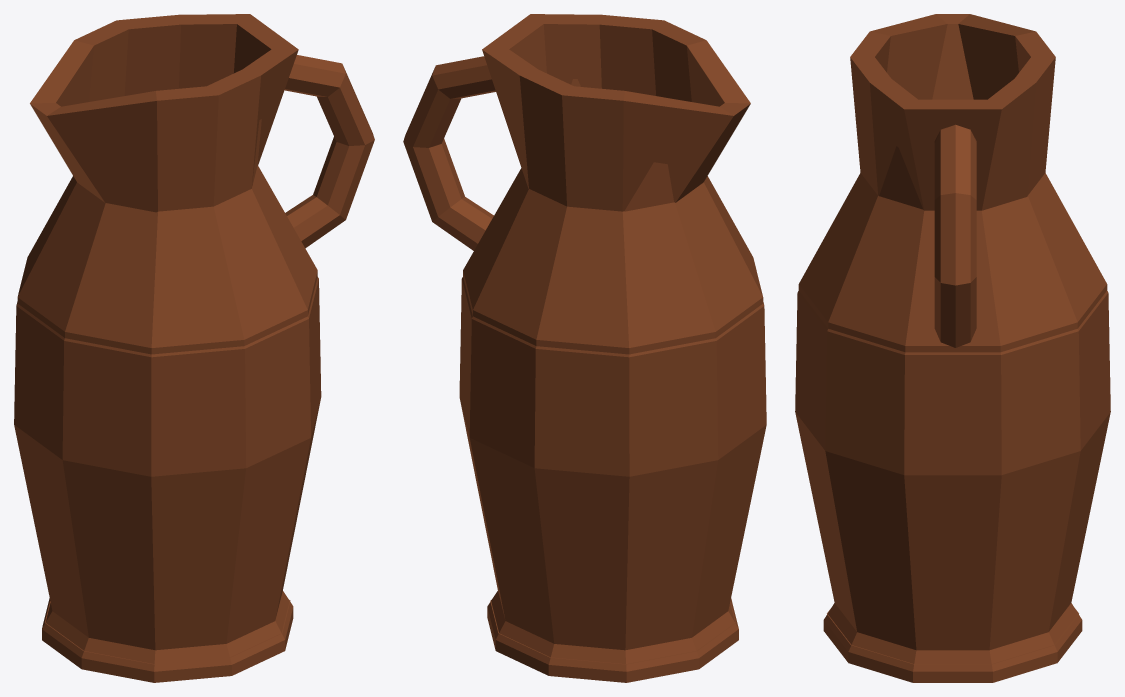
File: Kruik.fbx
3 views of the same model, side by side, from view 1: azimuth 30°, elevation 25°; view 2: azimuth 150°, elevation 25°; view 3: azimuth 270°, elevation 25° (orthographic).
Parts seen in each view (by area): view 1: Kruik; view 2: Kruik; view 3: Kruik.
Part boxes in pixels (x1=…): Kruik: x1=14, y1=14, x2=374, y2=682; Kruik: x1=403, y1=14, x2=766, y2=682; Kruik: x1=795, y1=14, x2=1110, y2=682.
Size of the model in its own units: 26.75 by 43.47 by 21.67.
